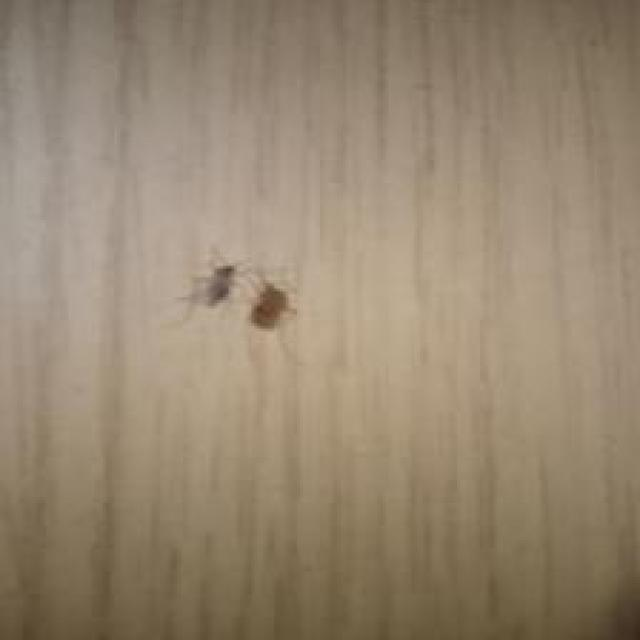Culex: (170, 245, 301, 362)
